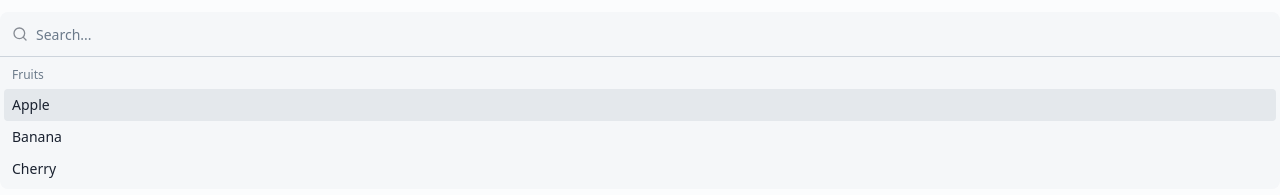
Scenario: Command › shows empty state when no items match
Type "zzzzz" into the dropdown with placeholder "Search..." at (652, 34), box top-left (36, 12), bottom-right (1268, 56)
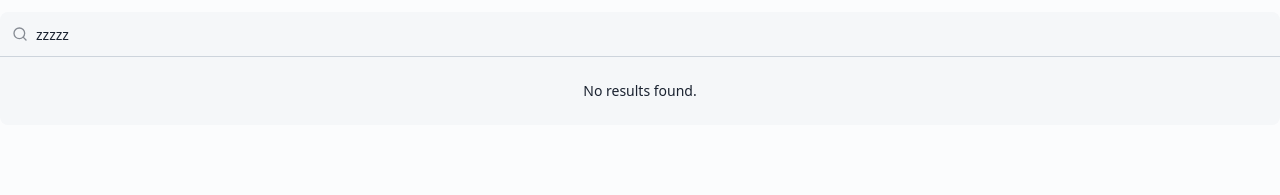
Now the text "No results found." is shown, box top-left (583, 81), bottom-right (697, 100)
